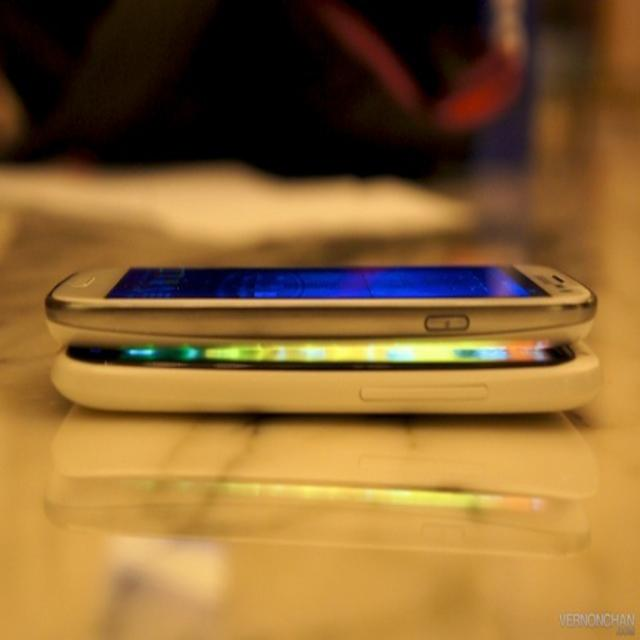Mobile phone: (38, 264, 601, 352), (49, 338, 604, 422)
